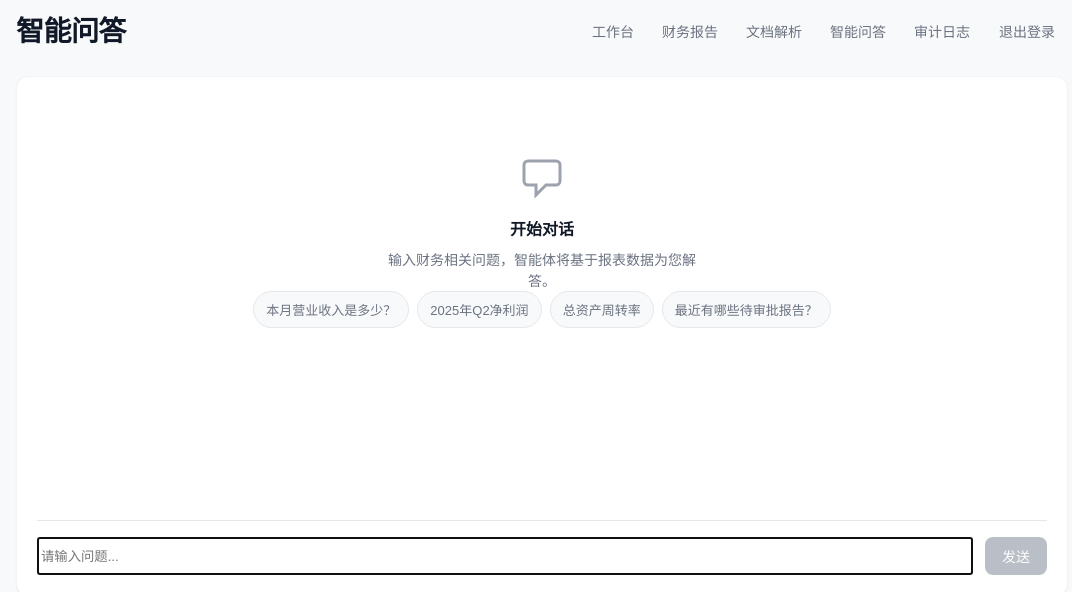
Test: AgentChatPage › sends message and displays answer
In the field with placeholder "请输入问题...": point(505, 556) x1=37 y1=537 x2=973 y2=575, type "本月收入"
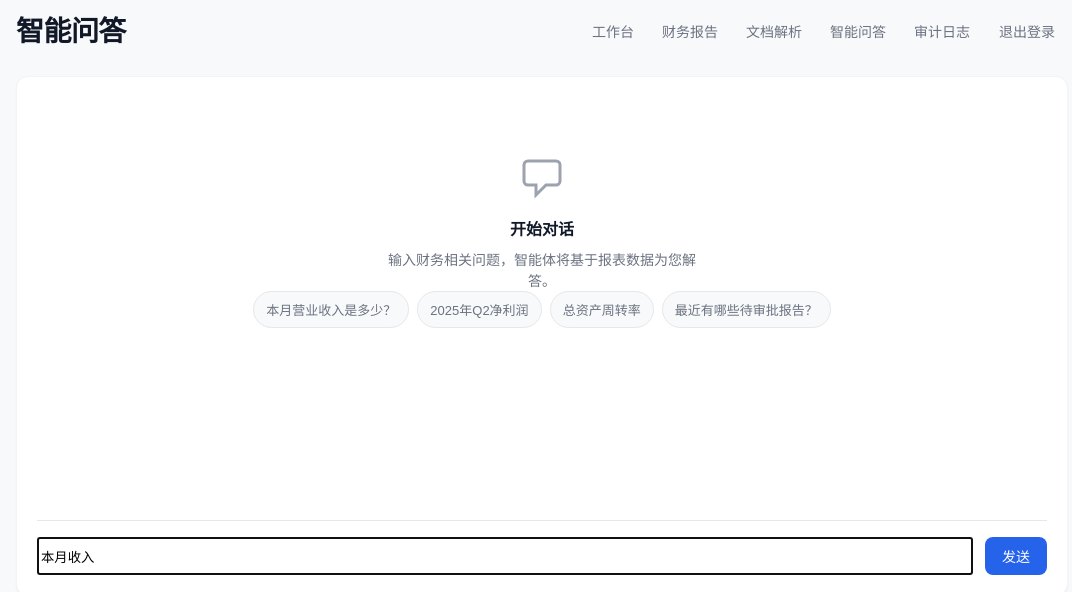
Click the button "发送": point(1016, 556) x1=985 y1=537 x2=1047 y2=575
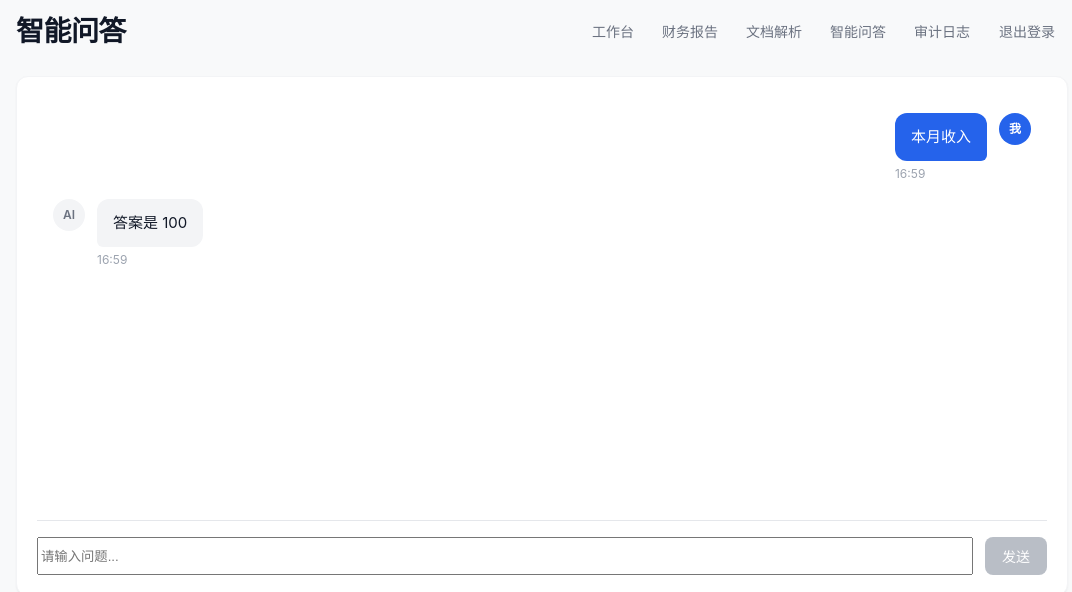
Check: the text "答案是 100" is shown, box x1=97 y1=199 x2=203 y2=247
Check: the text "本月收入" is shown, box x1=895 y1=113 x2=987 y2=161
